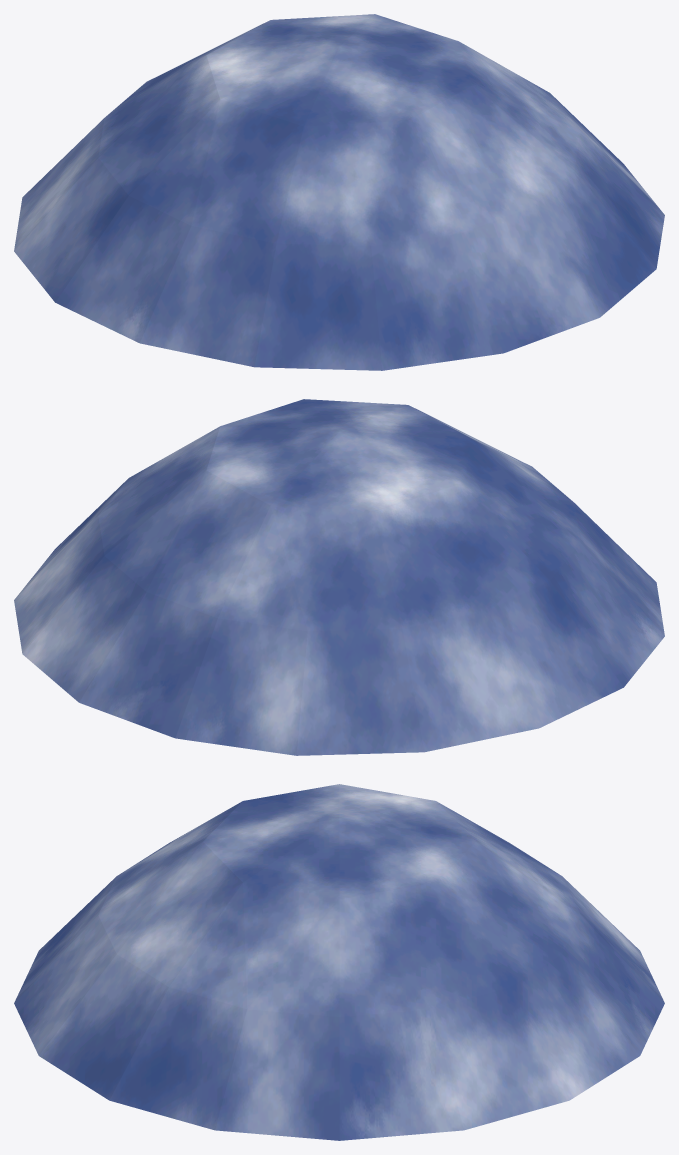
File: skydome.glb
3 views of the same model, one above another, from view 1: azimuth 30°, elevation 25°; view 2: azimuth 150°, elevation 25°; view 3: azimuth 270°, elevation 25° (orthographic).
Parts seen in each view (by area): view 1: obj_sky_daylight; view 2: obj_sky_daylight; view 3: obj_sky_daylight.
Part boxes in pixels (bbox=[...]): obj_sky_daylight: bbox=[14, 14, 664, 370]; obj_sky_daylight: bbox=[14, 399, 664, 755]; obj_sky_daylight: bbox=[14, 784, 664, 1140].
Size of the model in its own units: 43059 by 13501 by 43059.
1 material, 1 textured.
